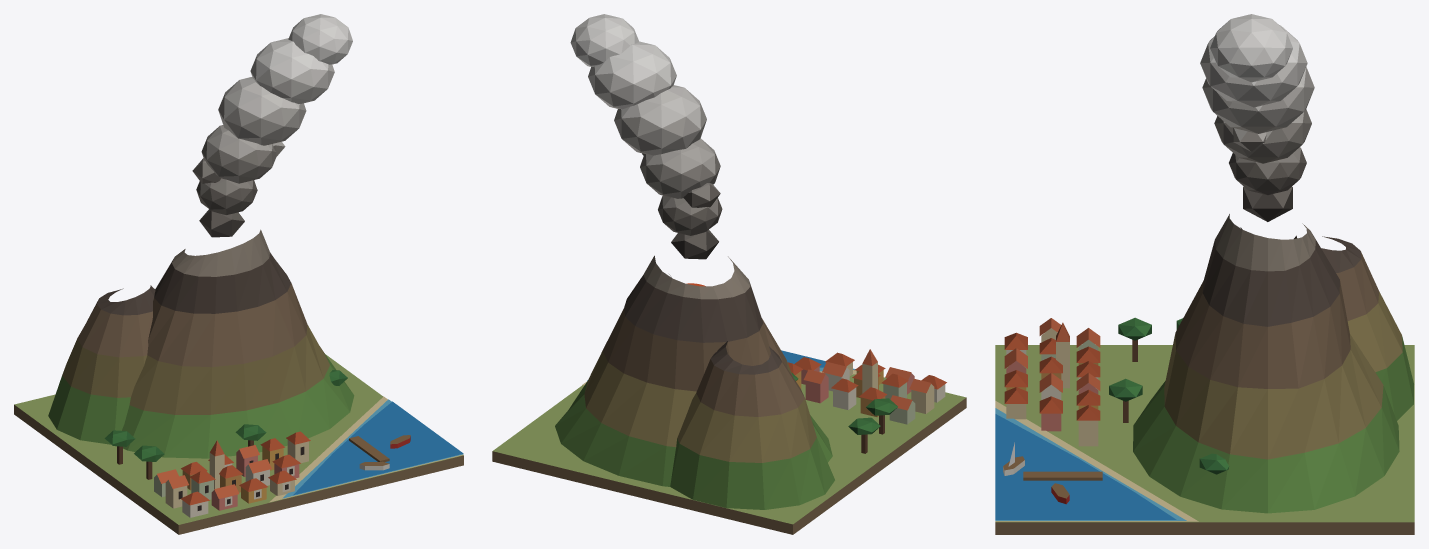
File: volcan.glb
The picture shows the model from 3 angles, left to right: view 1: azimuth 30°, elevation 25°; view 2: azimuth 150°, elevation 25°; view 3: azimuth 270°, elevation 25°; orthographic projection. The views are drawn at different scales.
Parts seen in each view (by area): view 1: volcan; view 2: volcan; view 3: volcan.
Boxes of the visible parts, x1,y1,x2,y2 form: volcan: (14, 14, 463, 534); volcan: (492, 14, 966, 534); volcan: (995, 14, 1414, 534).
Bounding box in the file's own units: 1.8 × 2.32 × 1.8.
